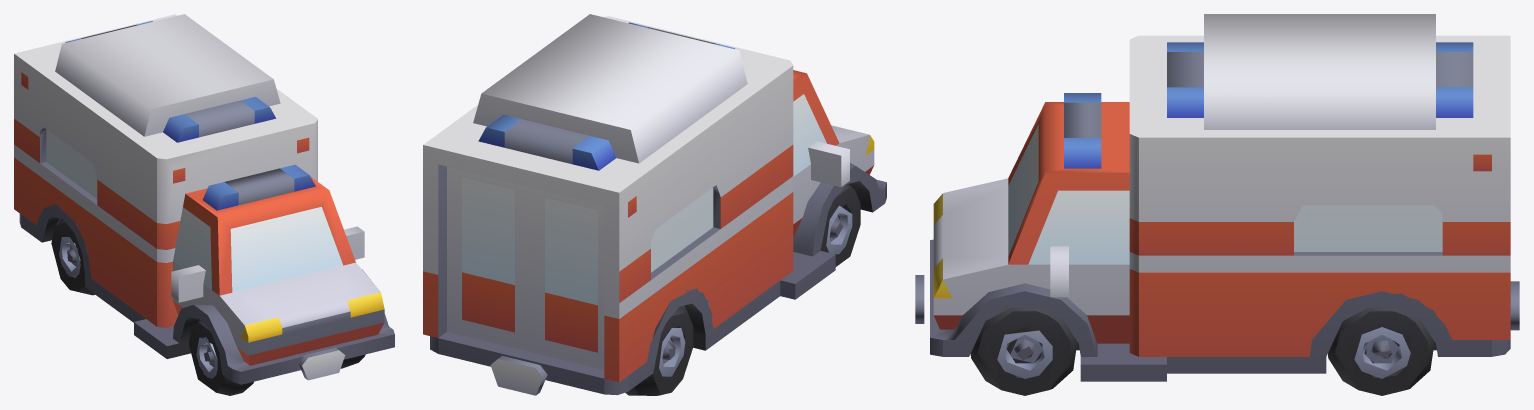
The model's file is ambulance.glb.
The picture shows the model from 3 angles, left to right: view 1: azimuth 30°, elevation 25°; view 2: azimuth 150°, elevation 25°; view 3: azimuth 270°, elevation 25°; orthographic projection. The views are drawn at different scales.
Visible parts, largest first — view 1: body; view 2: body; view 3: body.
Part boxes in pixels (x1,y1,x2,y2): body: [14, 14, 394, 395]; body: [423, 14, 886, 395]; body: [915, 14, 1519, 395].
Bounding box in the file's own units: 2.25 × 2.7 × 4.87.
Materials: 1 (1 with a texture image).
